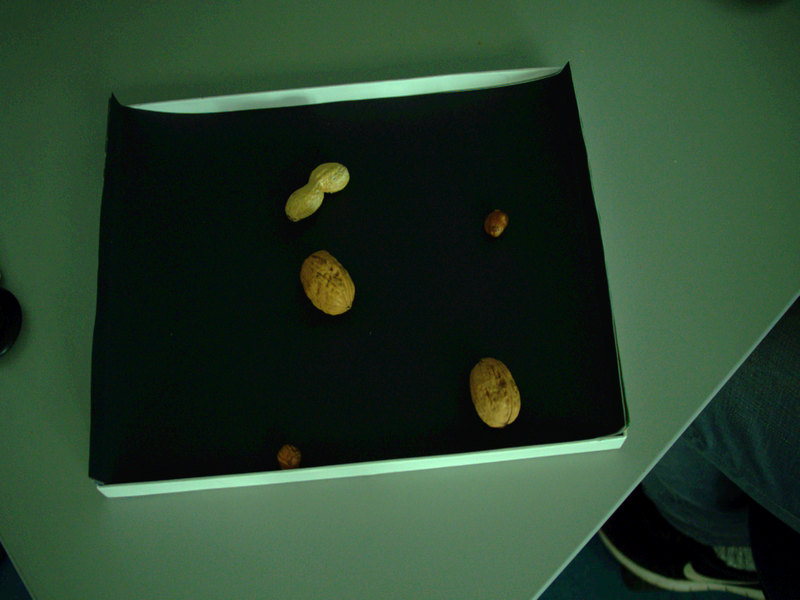walnut: (283, 242, 368, 324), (459, 345, 531, 440)
